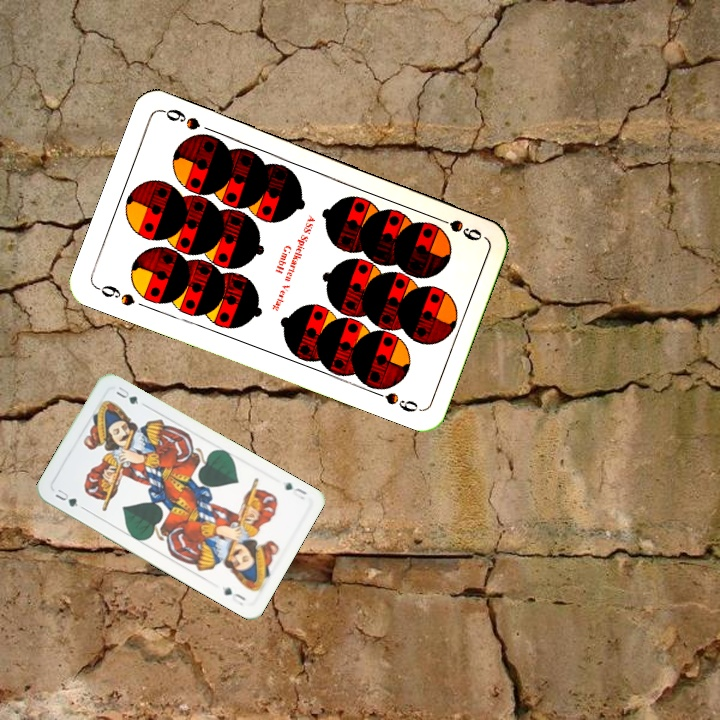GU: (51, 485, 81, 510), (281, 478, 309, 501)
S9: (428, 211, 485, 244), (92, 281, 138, 309)
